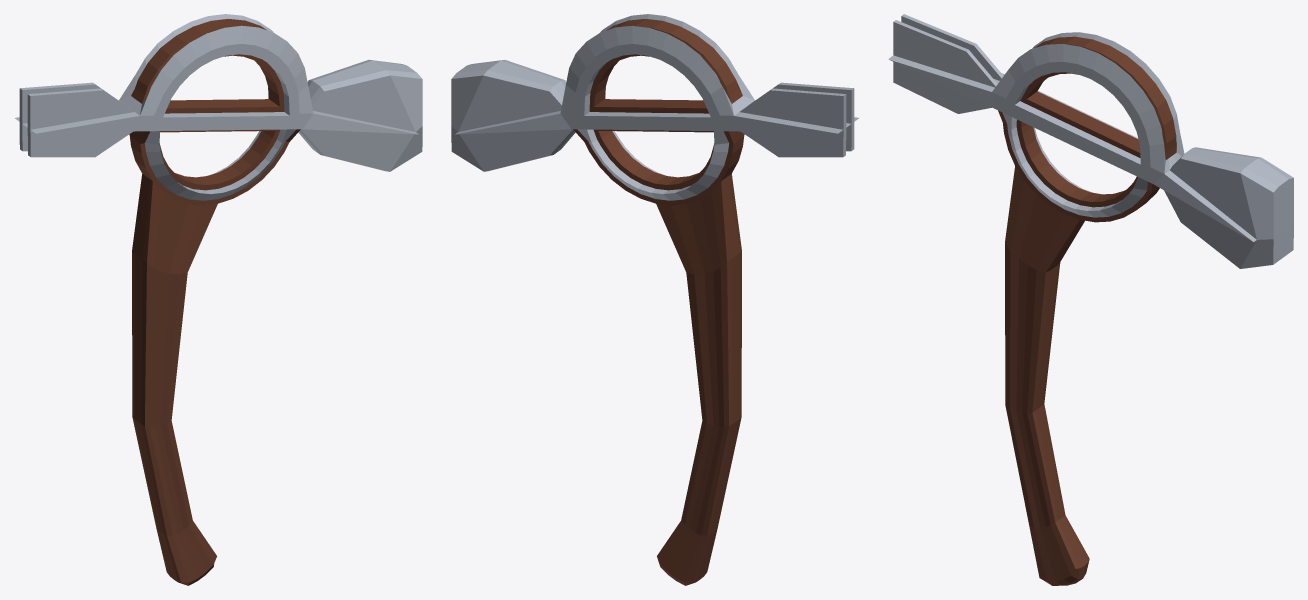
The model's file is hammer basic Fagerone.fbx.
The picture shows the model from 3 angles, left to right: view 1: azimuth 30°, elevation 25°; view 2: azimuth 150°, elevation 25°; view 3: azimuth 330°, elevation 25°; orthographic projection.
Parts seen in each view (by area): view 1: Cylinder.001; view 2: Cylinder.001; view 3: Cylinder.001.
Boxes of the visible parts, box(x1,y1,x2,y2) form: Cylinder.001: box(15, 14, 422, 585); Cylinder.001: box(451, 14, 858, 585); Cylinder.001: box(888, 14, 1293, 585).
Size of the model in its own units: 3.23 by 4.43 by 0.5343.
1 material, 1 textured.
